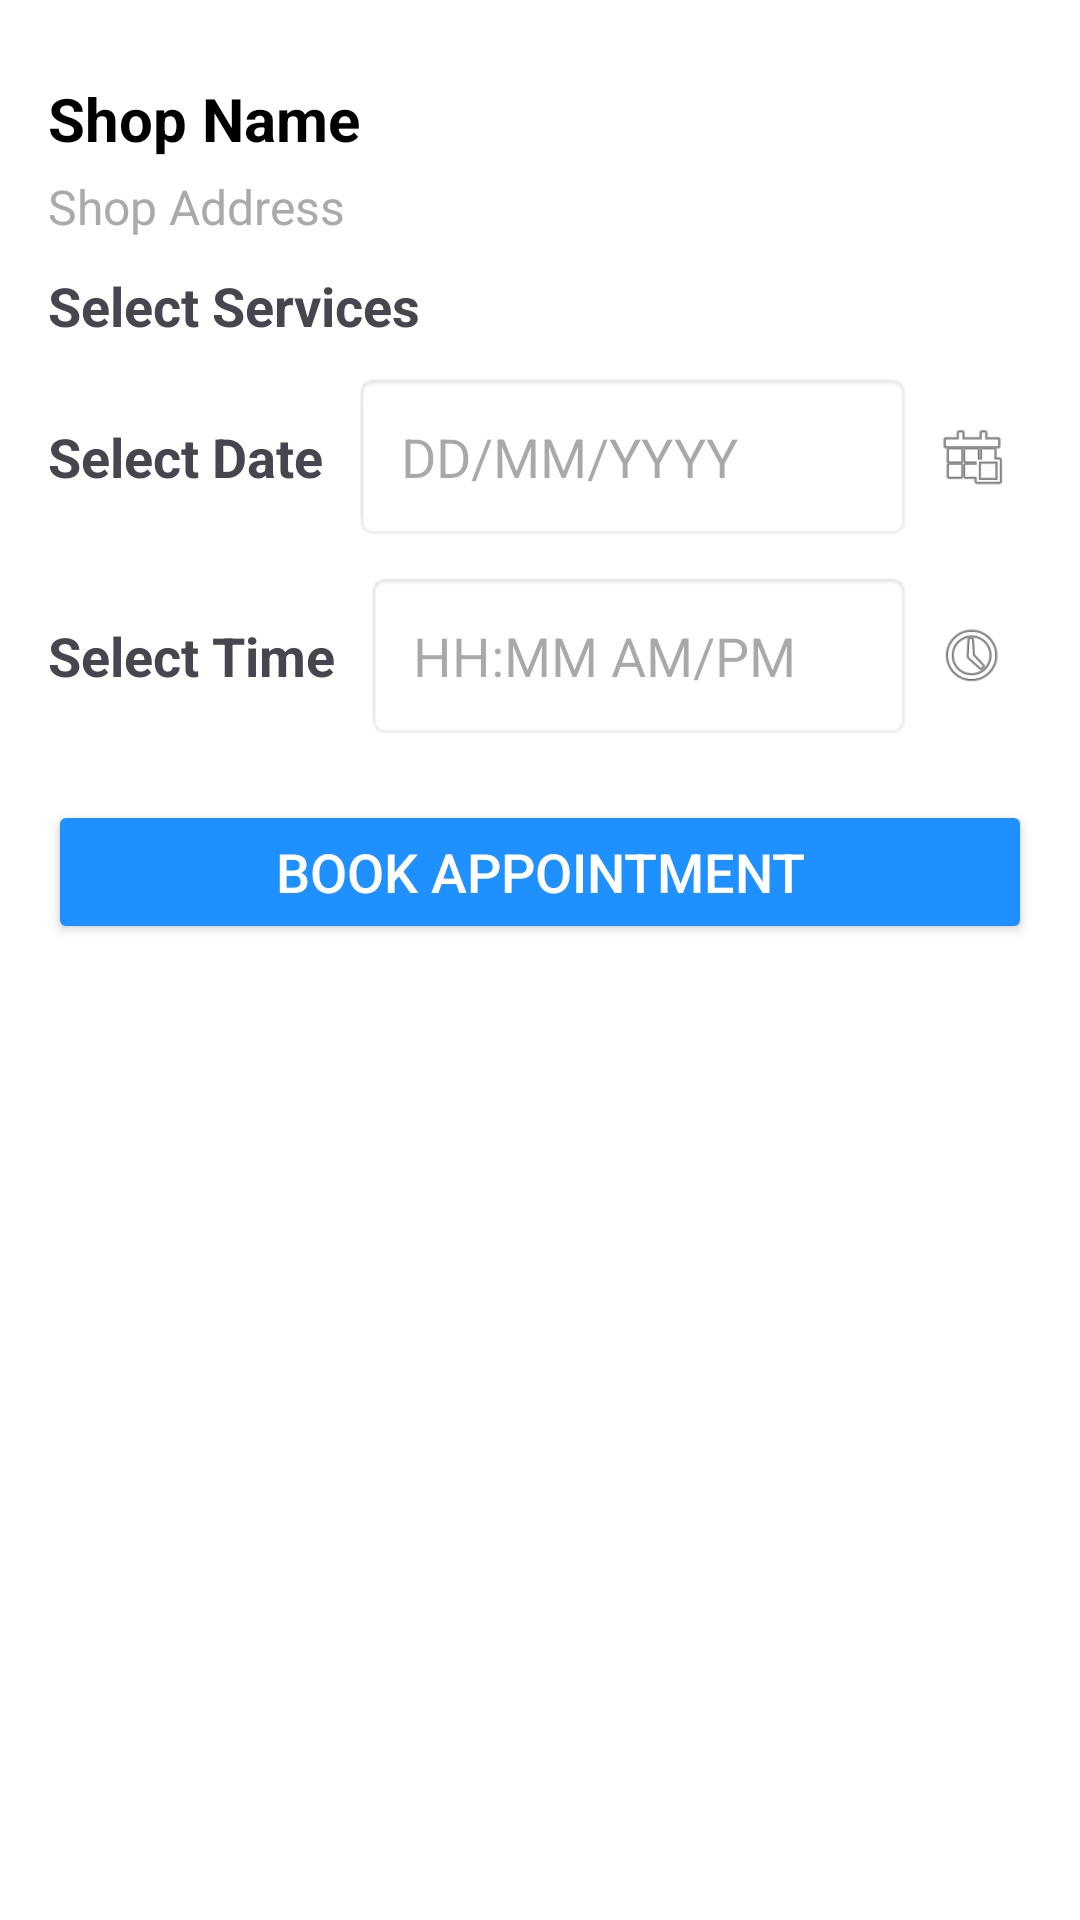

Screen size 1080 × 1920. Icon name, then its box in pixels as {"x1": x1, "y1": y1, "x2": x2, "y2": y2}:
recent history: {"x1": 945, "y1": 629, "x2": 998, "y2": 681}
today: {"x1": 943, "y1": 430, "x2": 1002, "y2": 485}
